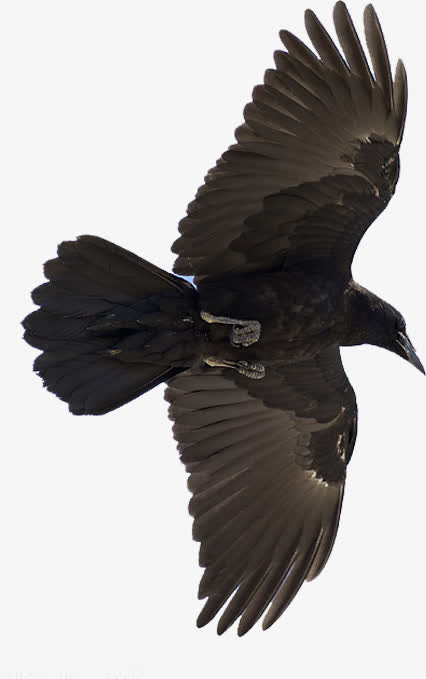bird: (5, 1, 426, 640)
